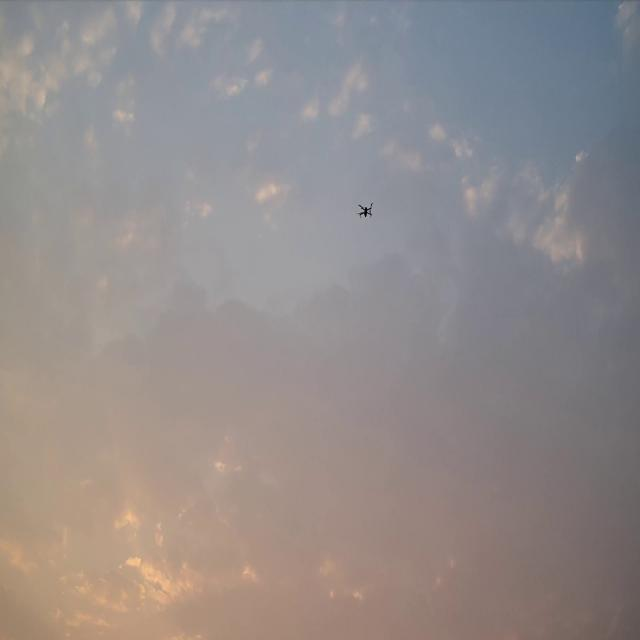drone: (356, 202, 373, 218)
